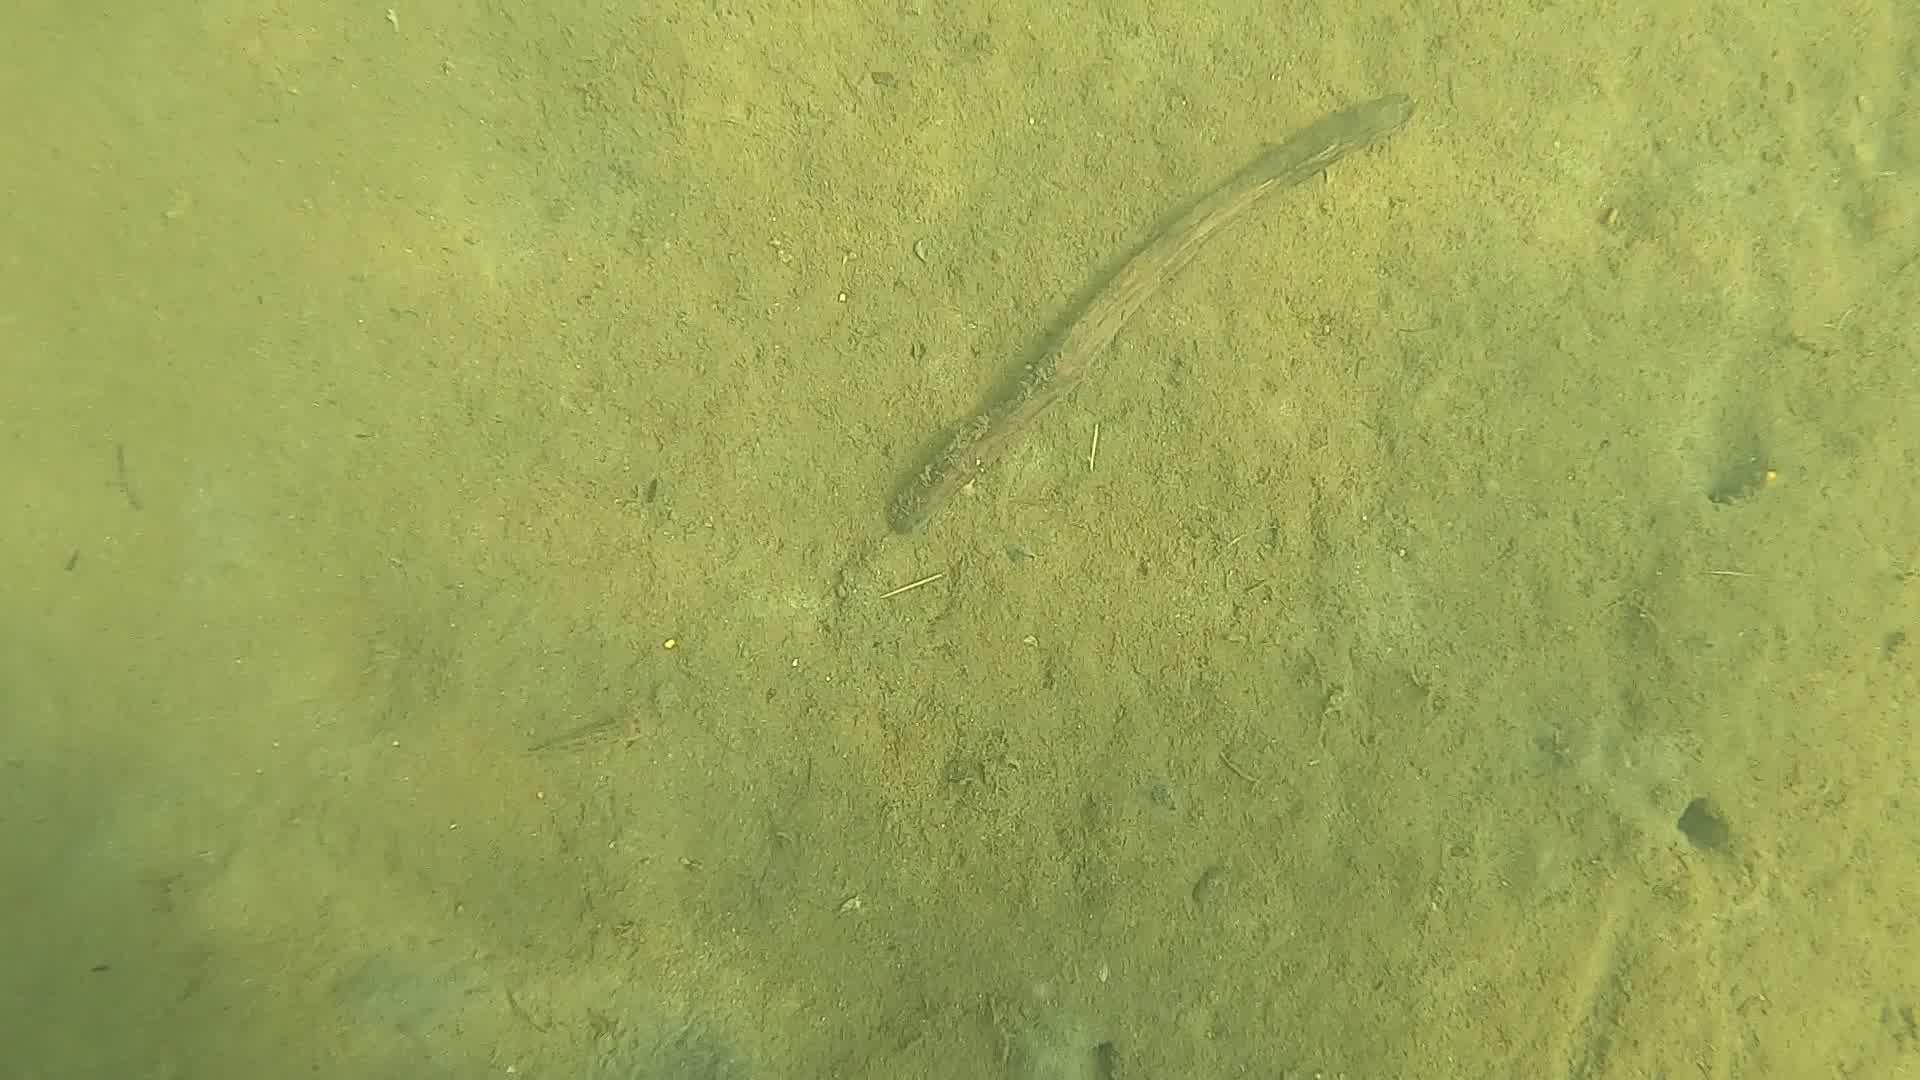wood: (882, 91, 1418, 533)
